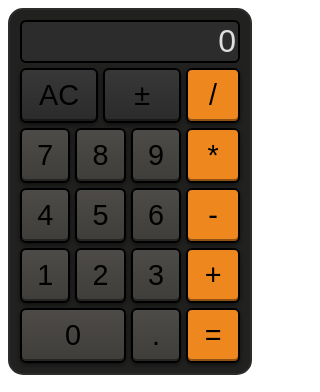
Clear button › Clear button clears result field
The width and height of the screenshot is (320, 392).
Click the button with test id "Button-1": click(45, 276) [20,248,70,303]
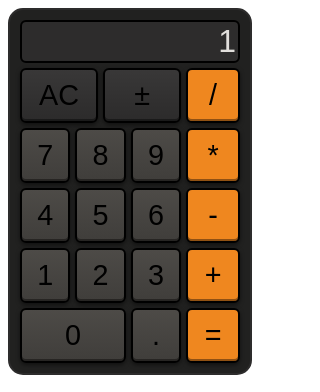
Click the button with test id "Button-AC": click(59, 96) [20,68,98,123]
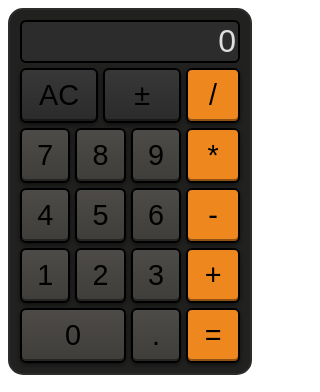
Expected: the field with test id "result-field" holds "0", [20,20,240,63]
